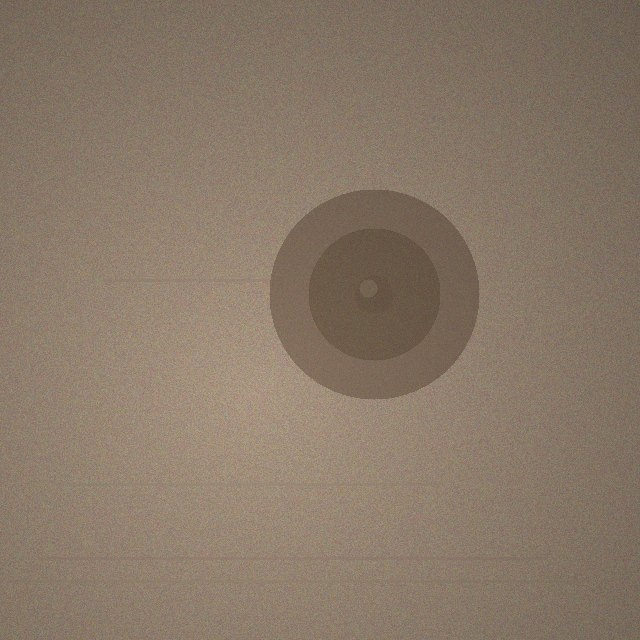good: (269, 189, 479, 399)
